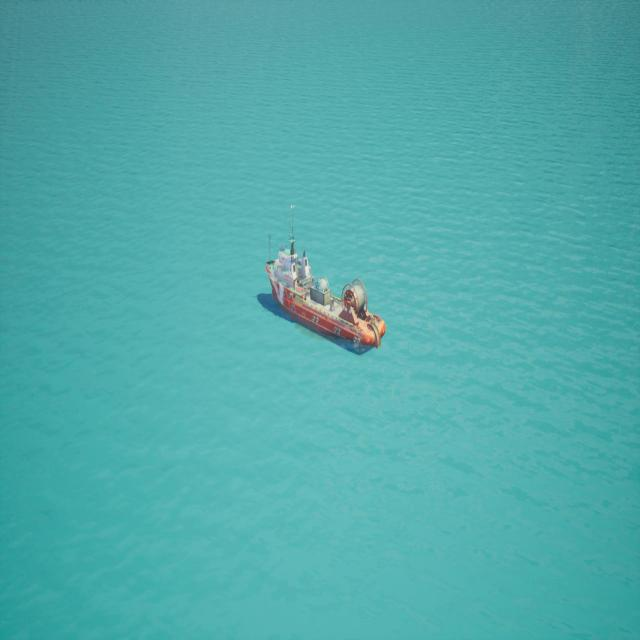tug boat: (261, 203, 382, 356)
